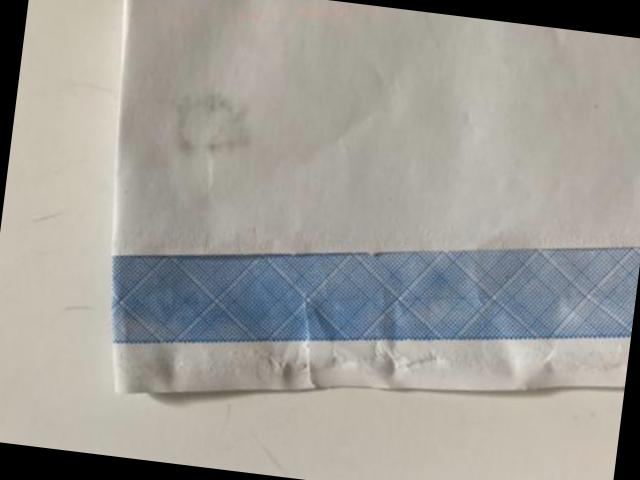cardboard paper: (109, 0, 640, 393)
